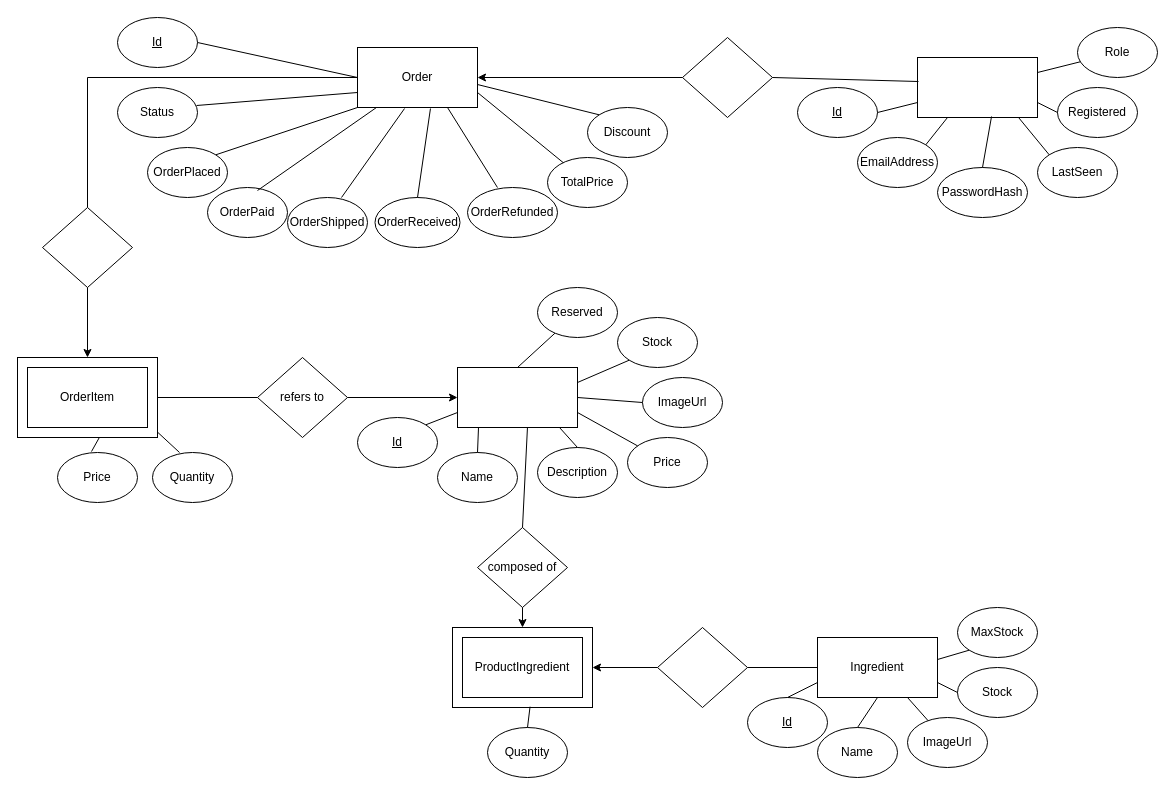
Some shapes in this 1175 by 795 pixel diagram are drawn without their labels. Here are the shapes that lost their labels. From the top down, the centre of each, then its label:
(x=727, y=77): places
(x=977, y=87): User
(x=87, y=247): contains
(x=517, y=397): Product
(x=702, y=667): used in
